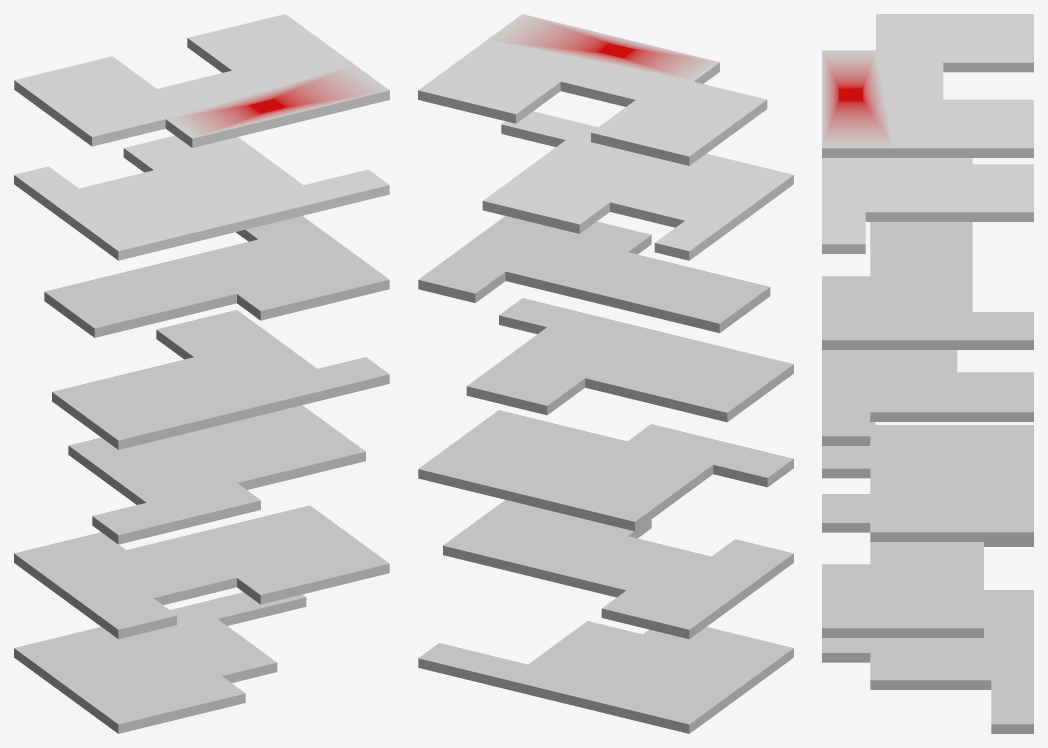
File: value-blueprint2.glb
3 views of the same model, side by side, from view 1: azimuth 30°, elevation 25°; view 2: azimuth 150°, elevation 25°; view 3: azimuth 270°, elevation 25° (orthographic).
Visible parts, largest first — view 1: layer1, layer6, layer2, layer4, layer5, layer7, layer3; view 2: layer1, layer5, layer6, layer4, layer2, layer7, layer3; view 3: layer1, layer5, layer3, layer6, layer4, layer2, layer7.
Part boxes in pixels (x1=…): layer1: x1=14, y1=14, x2=389, y2=147; layer6: x1=14, y1=505, x2=389, y2=639; layer2: x1=14, y1=135, x2=389, y2=260; layer4: x1=52, y1=310, x2=389, y2=449; layer5: x1=68, y1=405, x2=365, y2=544; layer7: x1=14, y1=592, x2=306, y2=733; layer3: x1=44, y1=216, x2=389, y2=337; layer1: x1=418, y1=14, x2=767, y2=165; layer5: x1=418, y1=410, x2=793, y2=531; layer6: x1=443, y1=500, x2=793, y2=639; layer4: x1=466, y1=298, x2=793, y2=422; layer2: x1=482, y1=111, x2=793, y2=260; layer7: x1=418, y1=621, x2=793, y2=733; layer3: x1=418, y1=216, x2=770, y2=333; layer1: x1=822, y1=14, x2=1033, y2=157; layer5: x1=822, y1=422, x2=1033, y2=541; layer3: x1=822, y1=222, x2=1033, y2=349; layer6: x1=822, y1=494, x2=1033, y2=637; layer4: x1=822, y1=350, x2=1033, y2=445; layer2: x1=822, y1=158, x2=1033, y2=253; layer7: x1=822, y1=590, x2=1033, y2=733.
Size of the model in its own units: 3 by 6.1 by 2.
